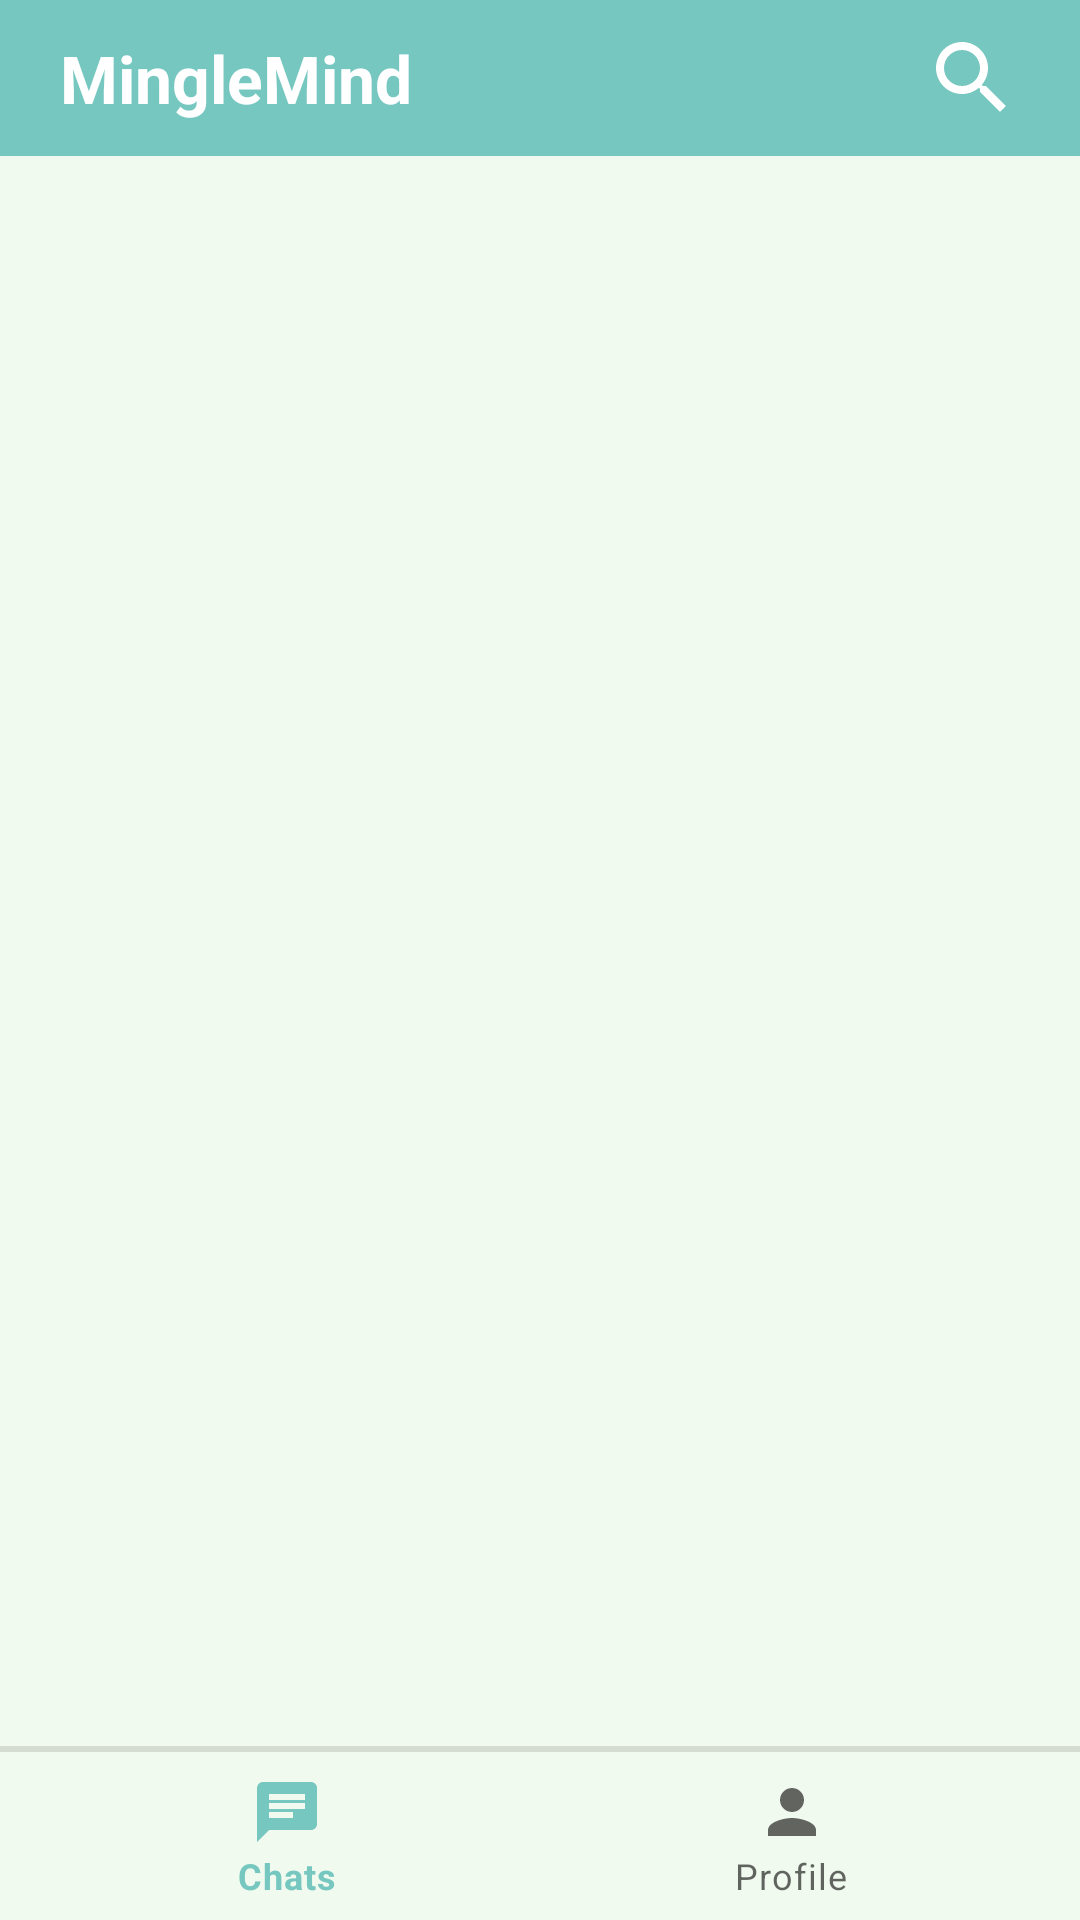

Screen size 1080w x 1920h. Icon name, then its box in pixels as rect(x1, y1, x2, y2):
search: rect(936, 42, 1006, 112)
